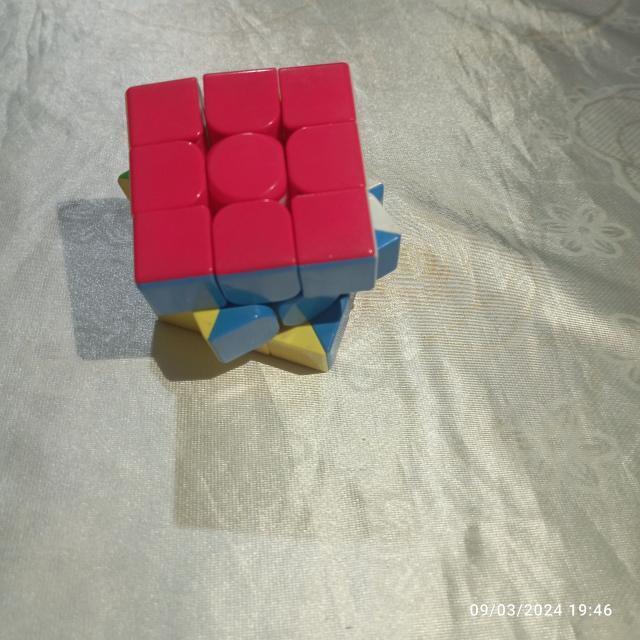Rub: (114, 56, 405, 374)
